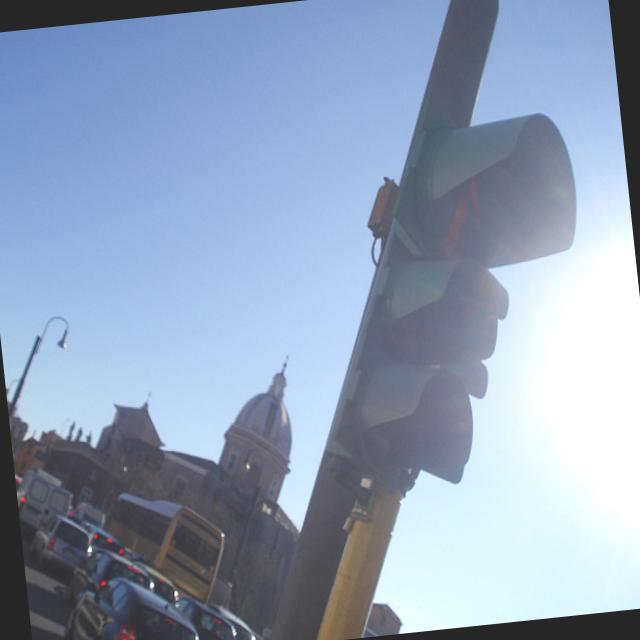Vehicle: (102, 480, 232, 615), (63, 574, 196, 640), (66, 543, 156, 604), (27, 510, 92, 578), (14, 466, 75, 534), (165, 589, 239, 640), (124, 556, 181, 612), (207, 596, 269, 640), (79, 516, 124, 562), (66, 500, 106, 531), (14, 469, 22, 504)
